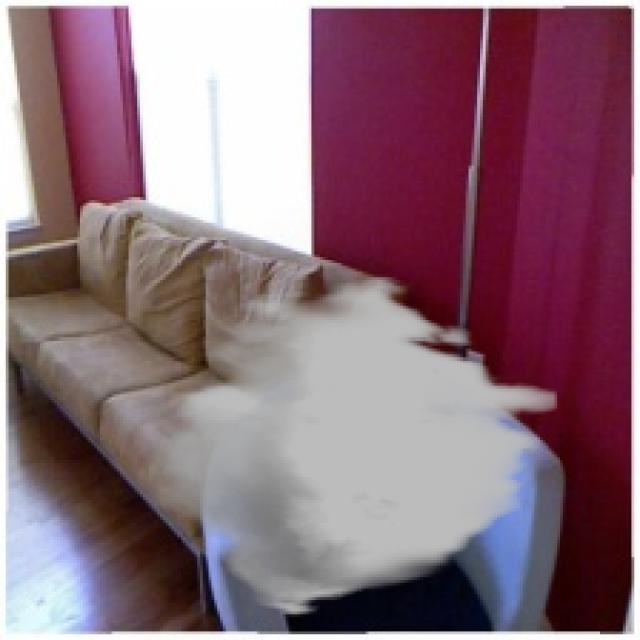smoke: (149, 274, 557, 617)
